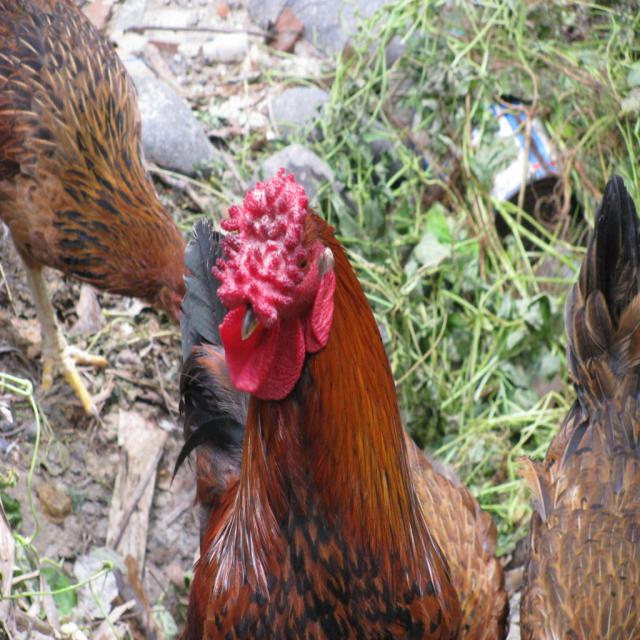Chicken: (168, 167, 511, 640), (0, 0, 186, 431), (514, 173, 640, 640)
